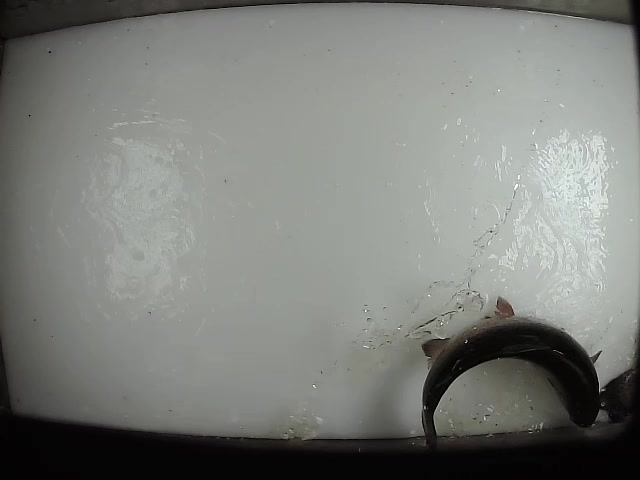fish: (415, 295, 605, 449)
